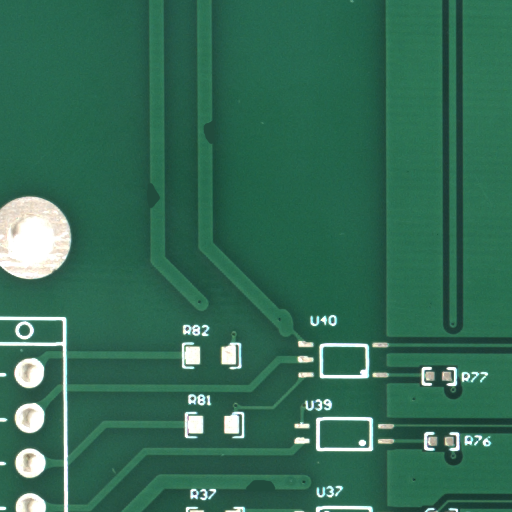Mouse_bite: (153, 193, 176, 239), (261, 485, 297, 502), (208, 132, 225, 164)
